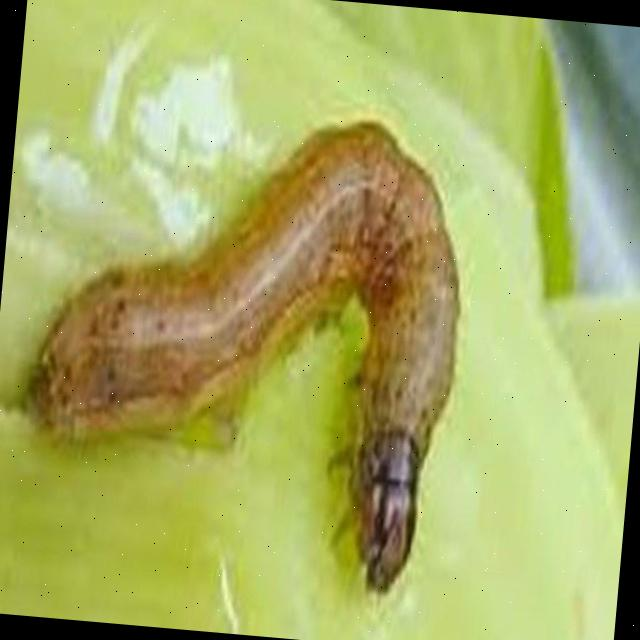worm: (11, 90, 481, 602)
